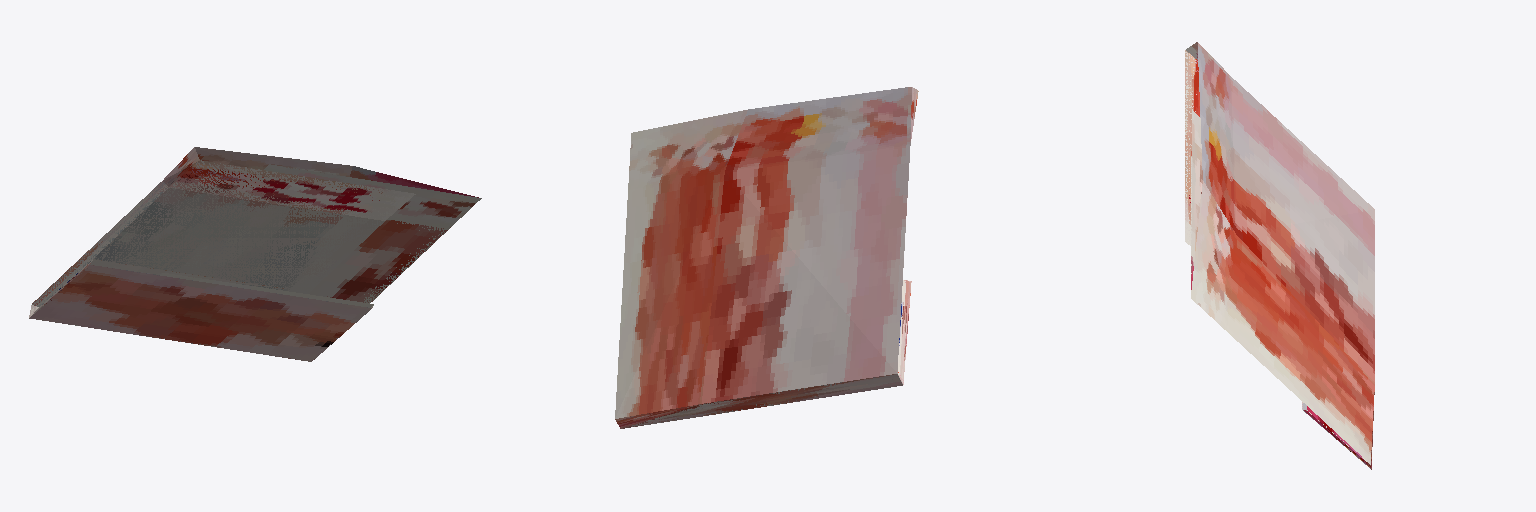
The picture shows the model from 3 angles: view 1: azimuth 30°, elevation 25°; view 2: azimuth 150°, elevation 25°; view 3: azimuth 270°, elevation 25°; orthographic projection.
Size of the model in its own units: 1.86 by 1.61 by 0.845.
2 materials, 2 textured.